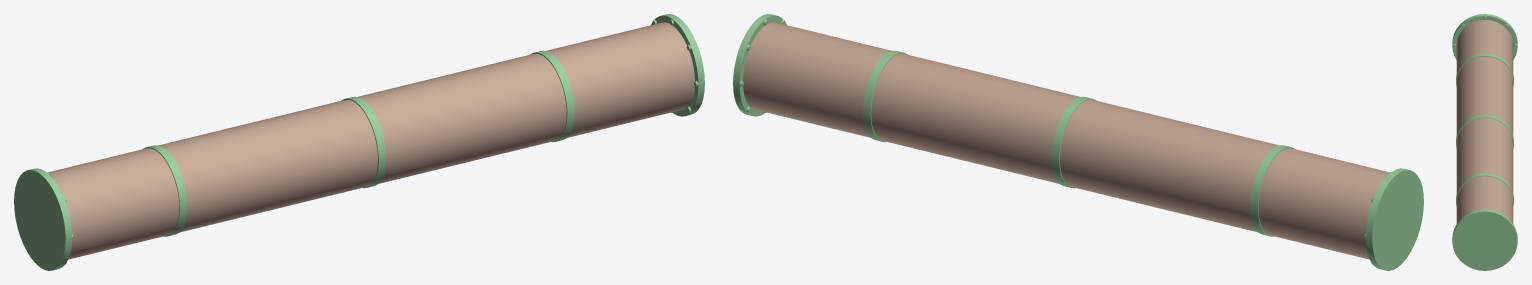
The model's file is Pipe_01c_snaps020.FBX.
3 views of the same model, side by side, from view 1: azimuth 30°, elevation 25°; view 2: azimuth 150°, elevation 25°; view 3: azimuth 270°, elevation 25° (orthographic). The views are drawn at different scales.
Visible parts, largest first — view 1: Pipe_01c_snaps020_LOD0; view 2: Pipe_01c_snaps020_LOD0; view 3: Pipe_01c_snaps020_LOD0.
Part boxes in pixels (x1,y1,x2,y2): Pipe_01c_snaps020_LOD0: (14,14,704,270); Pipe_01c_snaps020_LOD0: (733,14,1423,270); Pipe_01c_snaps020_LOD0: (1452,14,1517,270).
Size of what is drawn, in the model's own units: 4 by 0.5607 by 0.5608.
